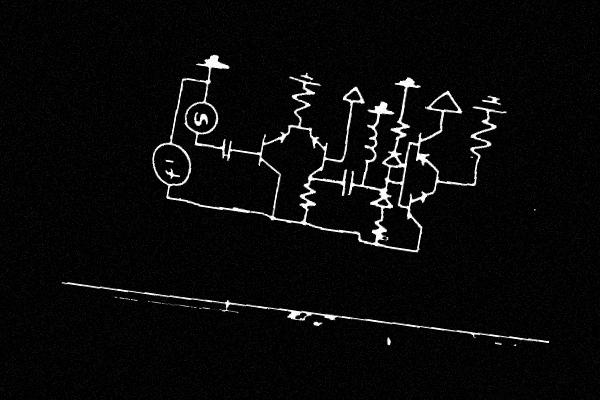capacitor: (330, 164, 362, 202), (213, 135, 238, 165)
diode: (379, 142, 407, 176), (365, 187, 398, 213)
ground: (420, 84, 467, 122), (469, 89, 514, 121), (192, 47, 233, 79), (337, 78, 371, 114), (390, 68, 425, 101), (363, 93, 399, 121), (285, 65, 326, 89)
inductor: (354, 115, 384, 175)
resistor: (463, 111, 501, 168), (286, 84, 320, 126), (293, 179, 318, 221), (386, 111, 414, 147), (368, 212, 395, 244)
signal: (179, 92, 222, 144)
voltage: (144, 136, 197, 196)
